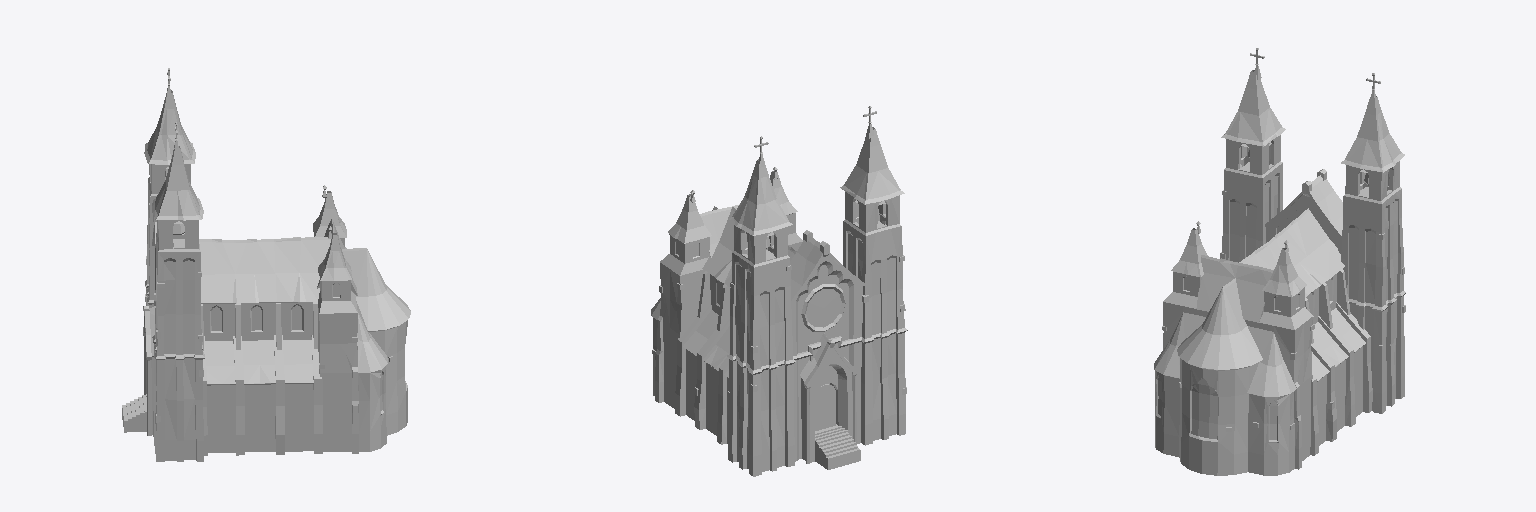
Rendered from medieval_church_norms.obj.
3 renders of one model, left to right at view 1: azimuth 30°, elevation 25°; view 2: azimuth 150°, elevation 25°; view 3: azimuth 270°, elevation 25°, orthographic.
Parts seen in each view (by area): view 1: Mesh_DrawCall_1, Mesh.005_DrawCall_4, Mesh.004_DrawCall_5; view 2: Mesh_DrawCall_1, Mesh.005_DrawCall_4, Mesh.004_DrawCall_5; view 3: Mesh_DrawCall_1, Mesh.005_DrawCall_4, Mesh.004_DrawCall_5.
Part boxes in pixels (bbox=[...]): Mesh_DrawCall_1: bbox=[122, 164, 407, 461]; Mesh.005_DrawCall_4: bbox=[144, 90, 410, 383]; Mesh.004_DrawCall_5: bbox=[211, 305, 382, 412]; Mesh_DrawCall_1: bbox=[652, 192, 907, 476]; Mesh.005_DrawCall_4: bbox=[651, 127, 904, 381]; Mesh.004_DrawCall_5: bbox=[665, 281, 841, 395]; Mesh_DrawCall_1: bbox=[1155, 135, 1405, 475]; Mesh.005_DrawCall_4: bbox=[1154, 70, 1404, 396]; Mesh.004_DrawCall_5: bbox=[1158, 279, 1357, 439].
Size of the model in its own units: 10.53 by 13.71 by 9.59.